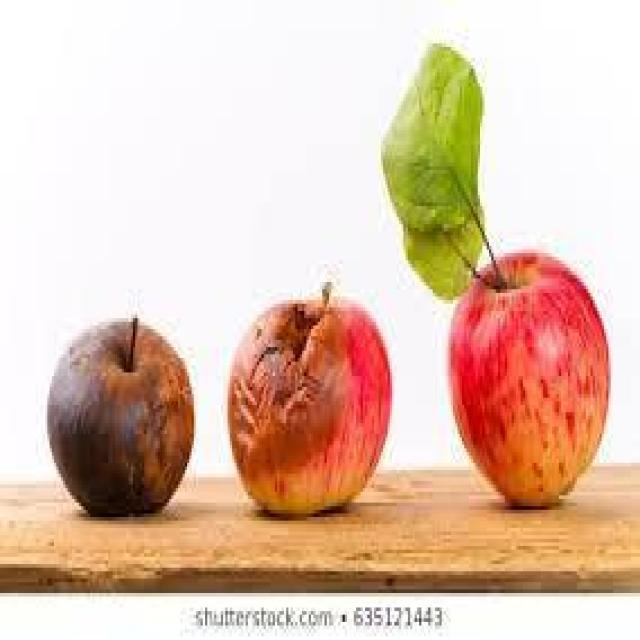maca: (439, 217, 615, 512), (225, 278, 392, 514), (45, 311, 194, 517)
